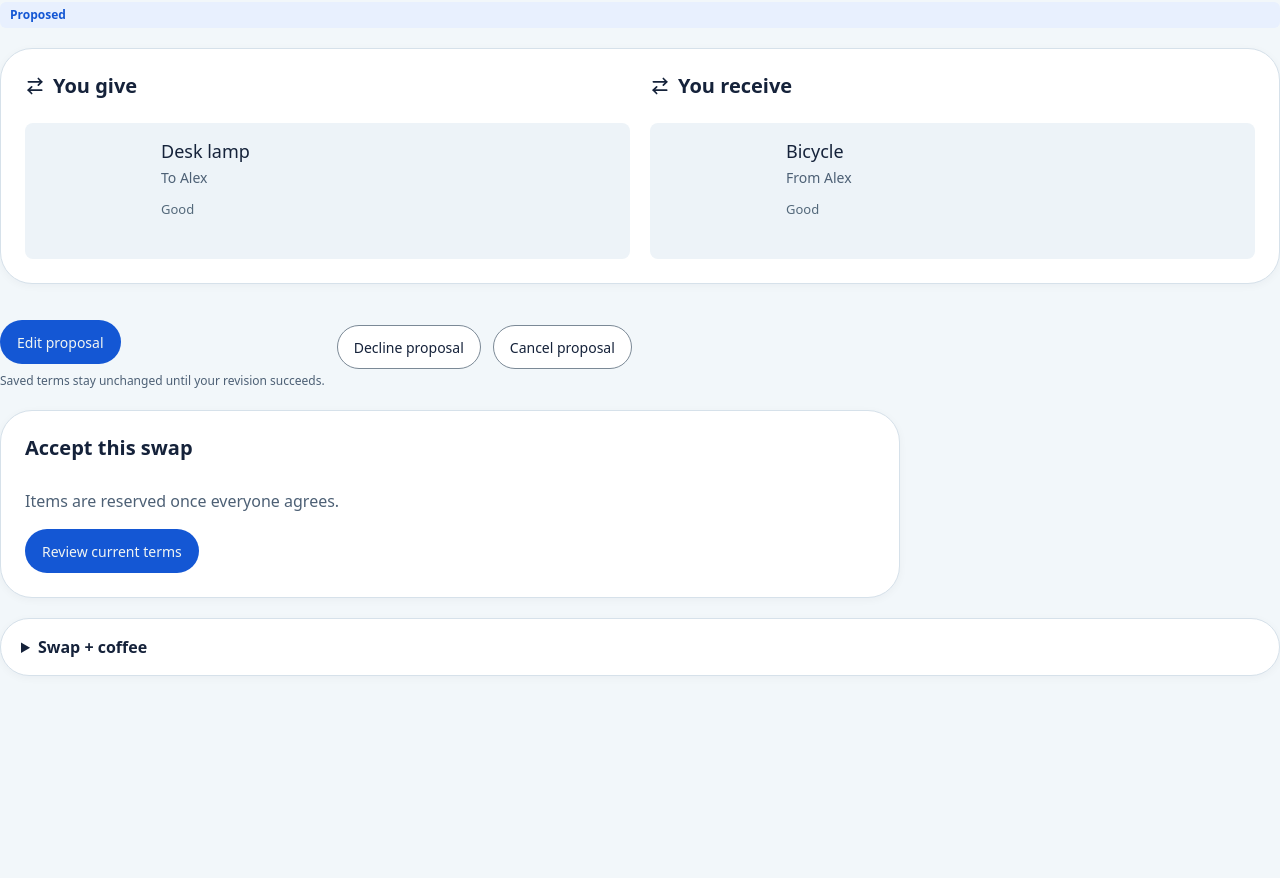
Scenario: stale acceptance retains old terms and requires a deliberate review of the new version
Click the button "Review current terms" at (112, 551), box left=25, top=529, right=199, bottom=573
(page scrolled)
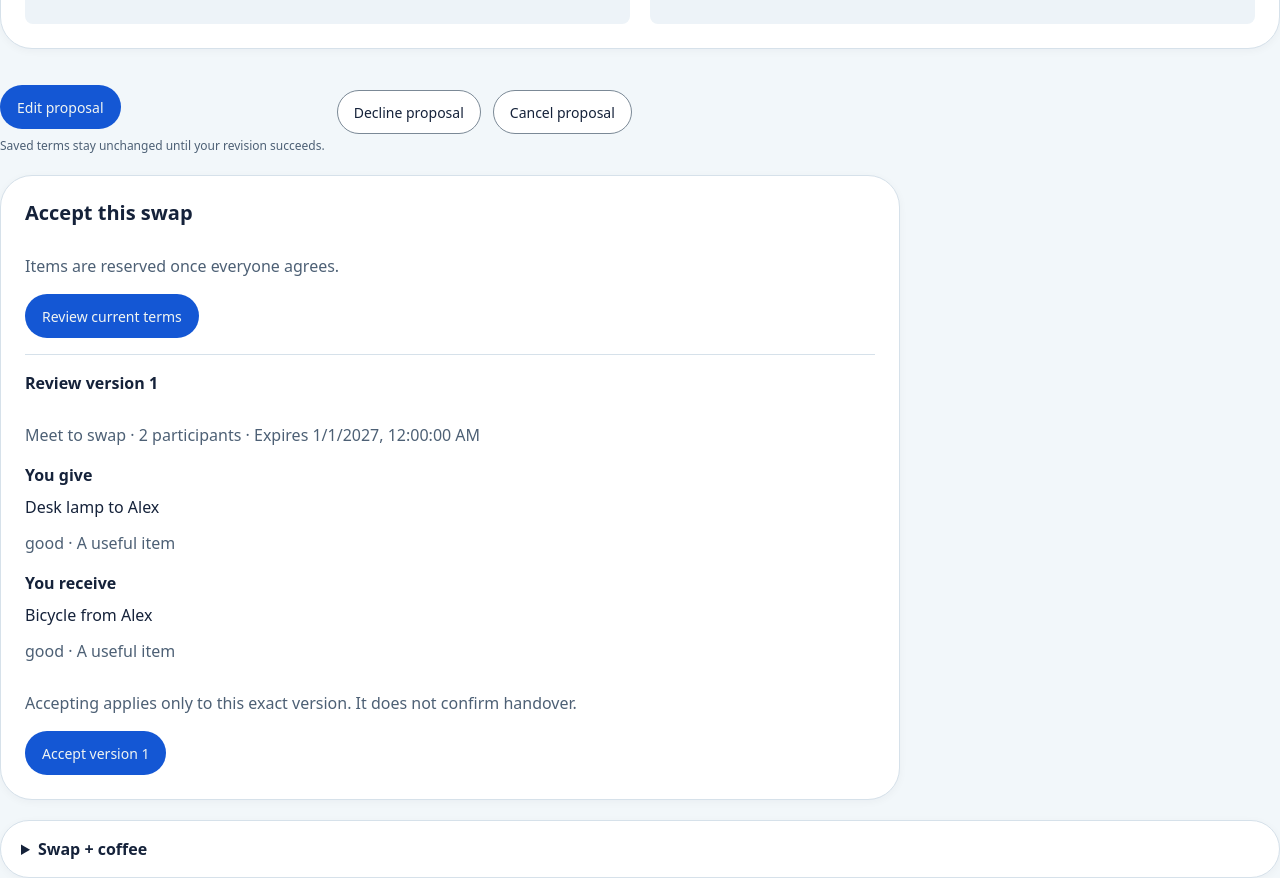
Click the button "Accept version 1" at (96, 753), box left=25, top=731, right=166, bottom=775
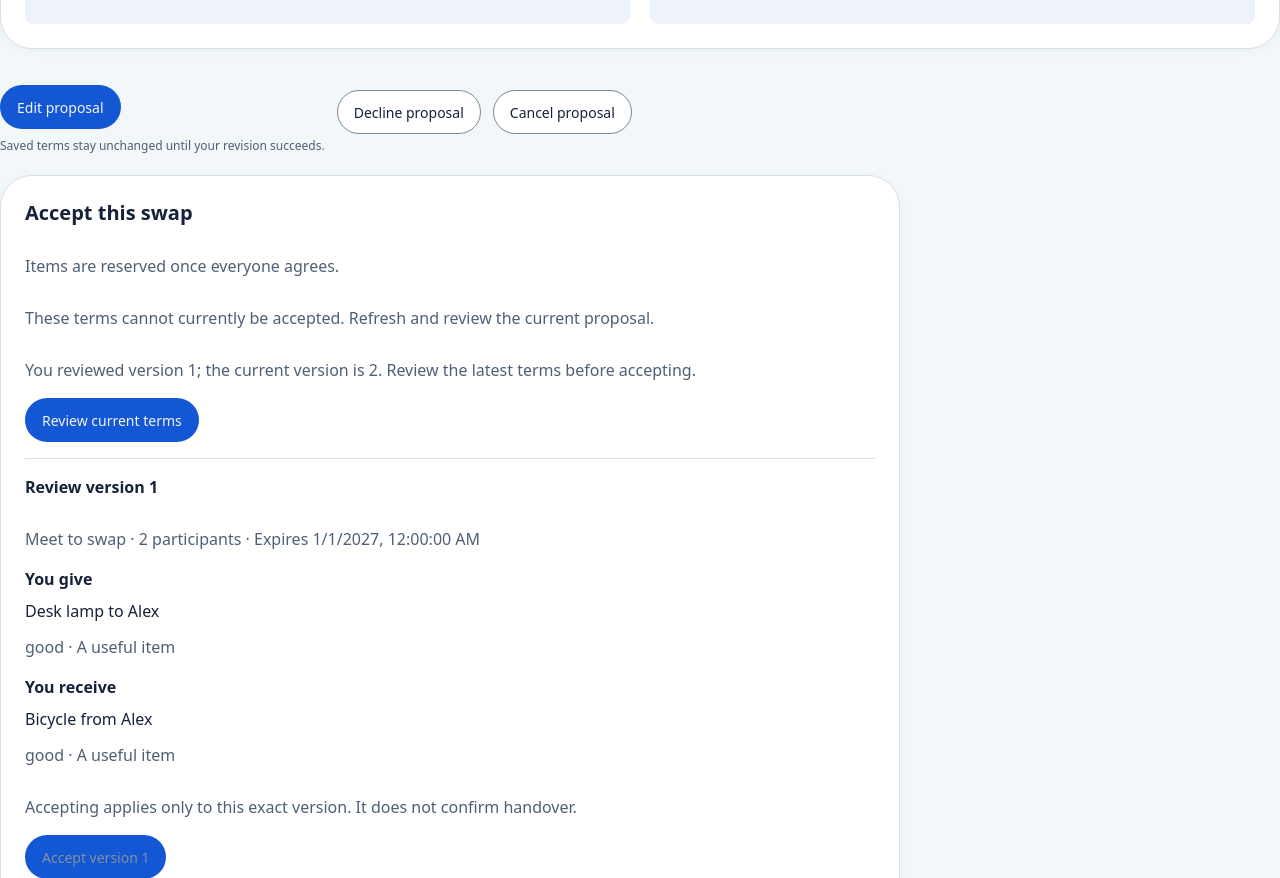
Result: the element named "Acceptance review" shows "Bicycle from Alex" at left=25, top=458, right=875, bottom=877
Result: the text "You reviewed version 1" is shown at left=25, top=359, right=696, bottom=381
Result: the button "Accept version 1" is disabled at left=25, top=835, right=166, bottom=877
Click the button "Review current terms" at (112, 420), box left=25, top=398, right=199, bottom=442
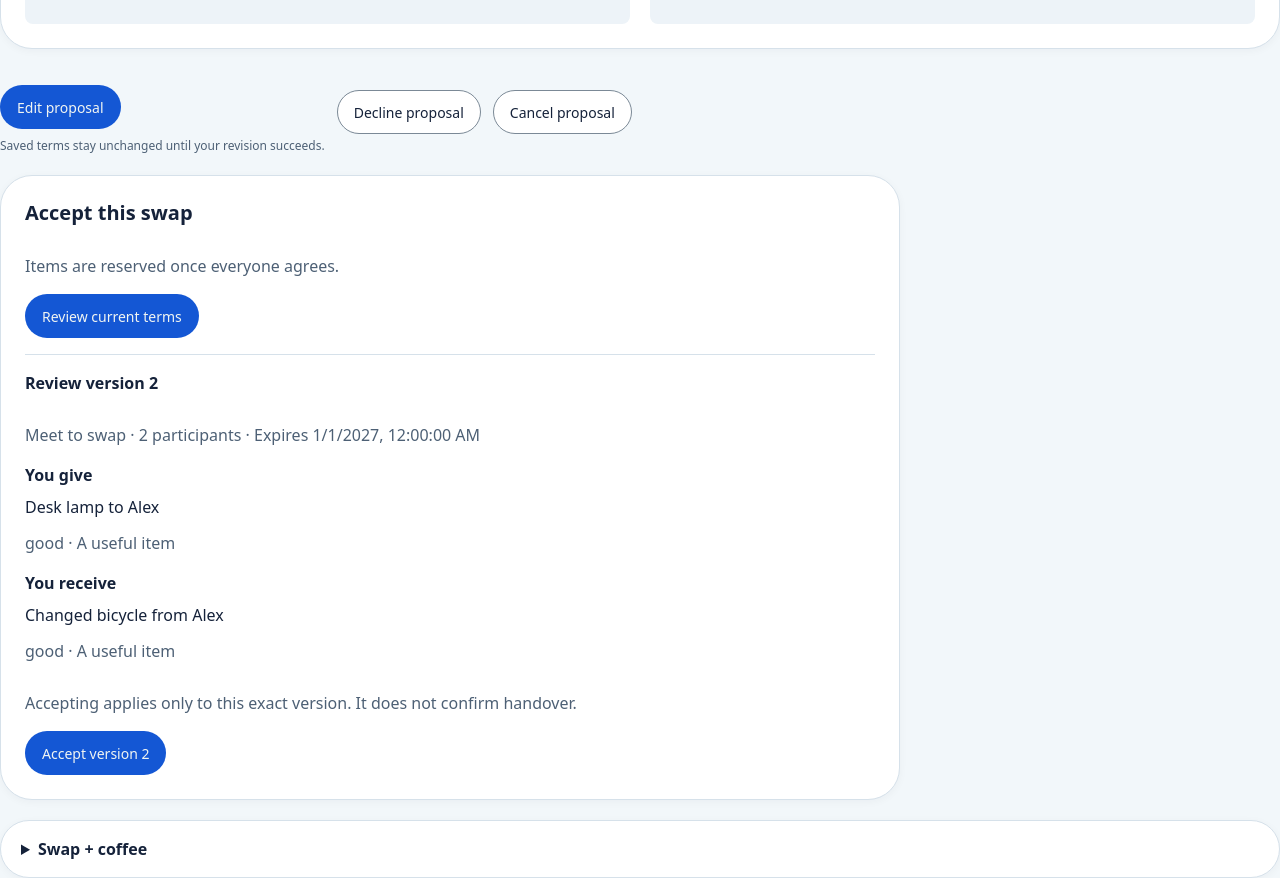
Result: the button "Accept version 2" is enabled at left=25, top=731, right=166, bottom=775
Result: the element named "Acceptance review" shows "Changed bicycle" at left=25, top=604, right=147, bottom=626
